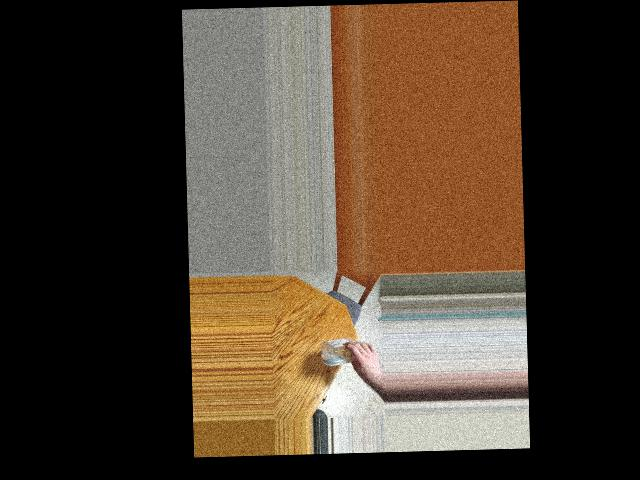cheese: (326, 334, 368, 370)
